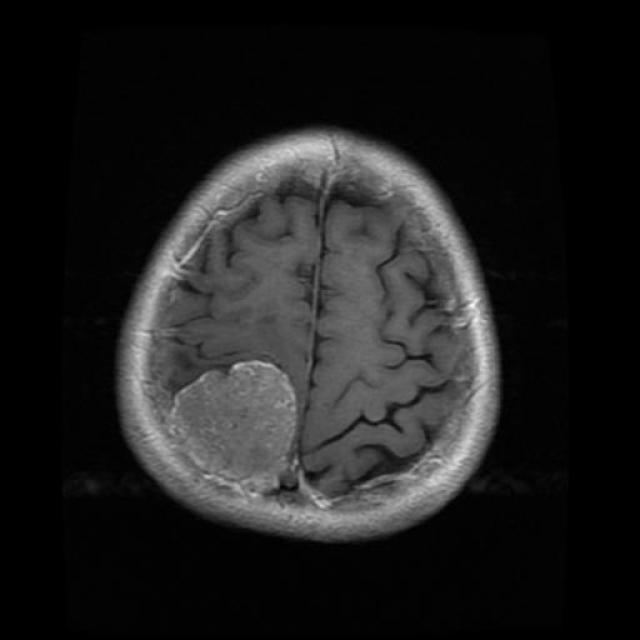Meningioma: (165, 361, 295, 492)
